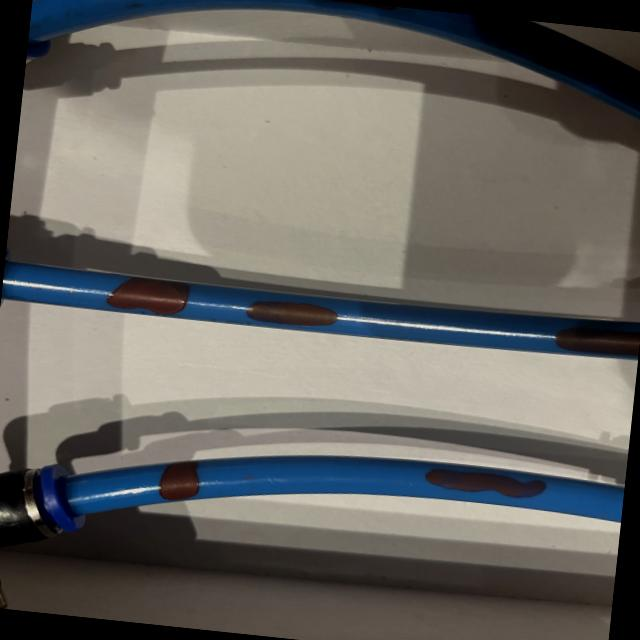hose_damage: (419, 458, 562, 506), (104, 270, 195, 320), (549, 315, 640, 360), (240, 296, 346, 334), (247, 0, 412, 17), (154, 454, 206, 506), (534, 29, 578, 76)
